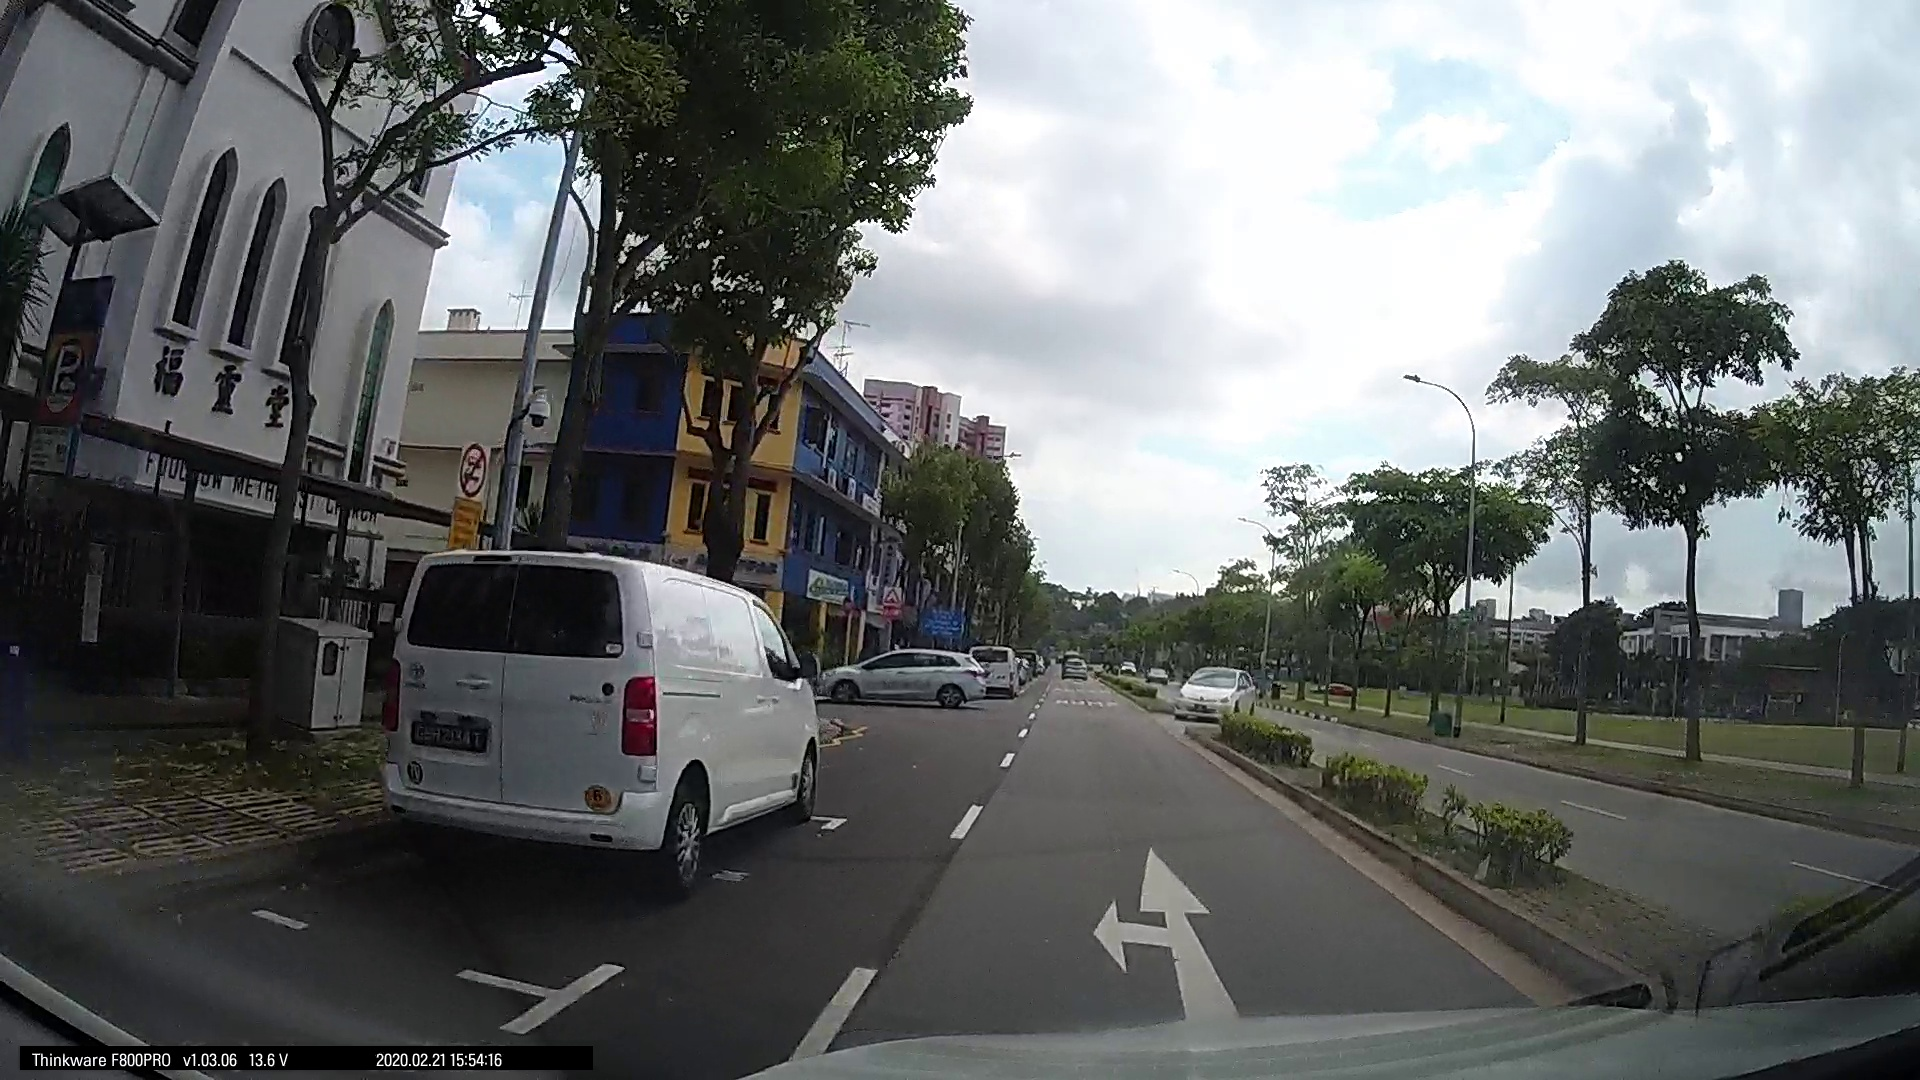Heavy Vehicle: (1717, 649, 1917, 855), (757, 593, 935, 748)
Light Vehicle: (1, 605, 419, 1011), (1532, 676, 1755, 811), (1443, 690, 1543, 781), (1174, 646, 1240, 705), (948, 644, 993, 683), (1030, 645, 1072, 686)
